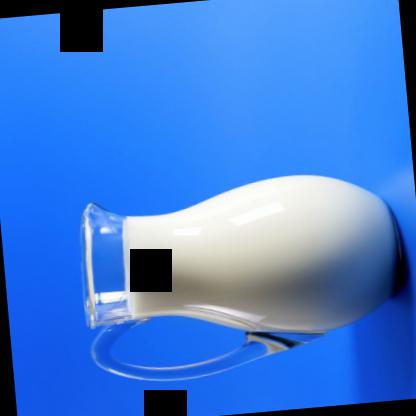milk: (61, 166, 415, 389)
